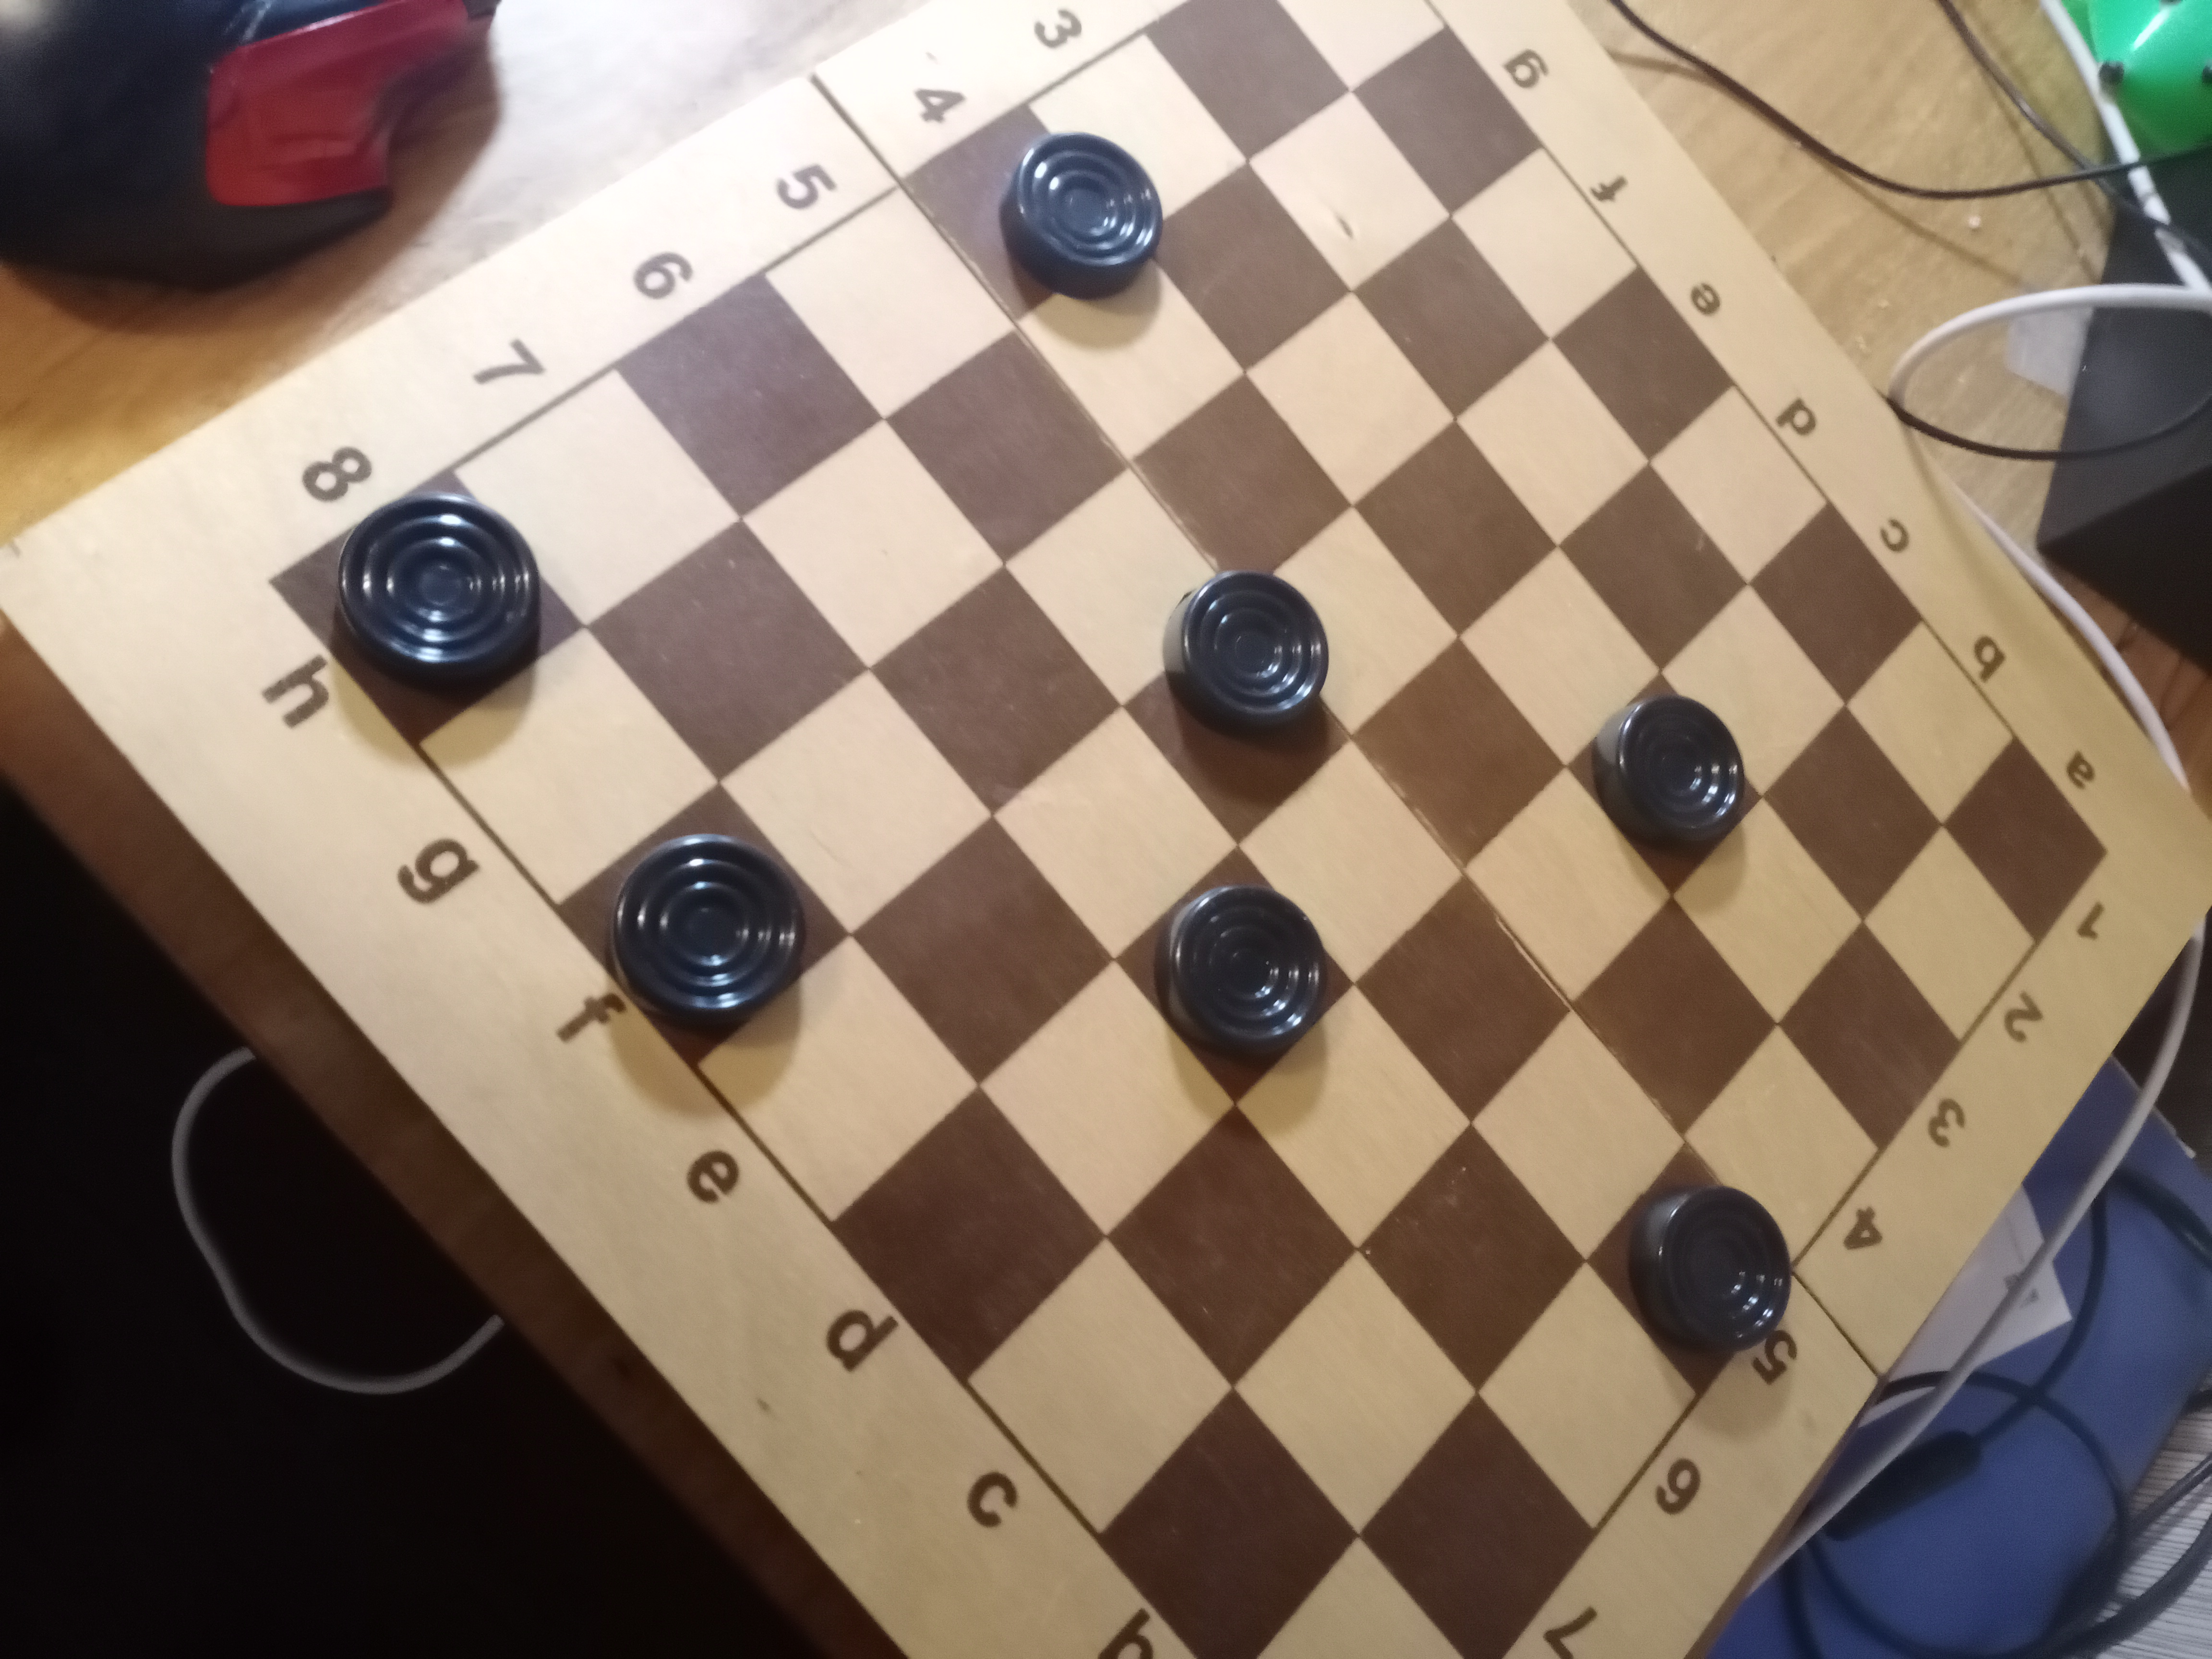Black_Draught: (280, 469, 589, 744), (561, 784, 855, 1068), (1123, 568, 1355, 843), (1116, 845, 1355, 1103), (904, 106, 1163, 324), (1587, 1140, 1792, 1394), (1566, 671, 1764, 894)
